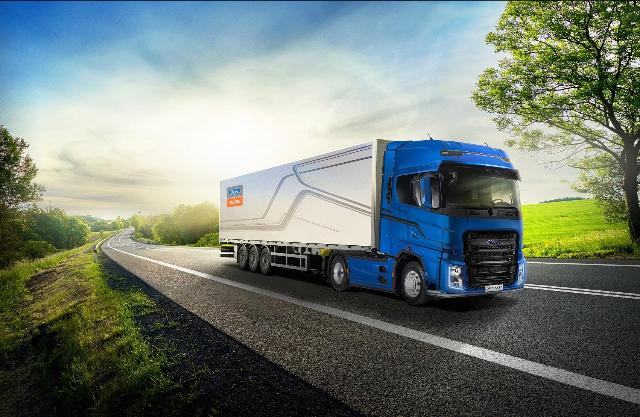truck: (198, 131, 557, 304)
